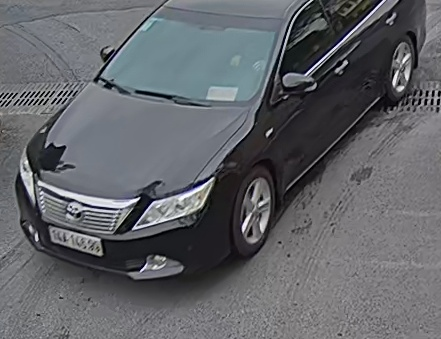vehicle plate: (48, 217, 109, 259)
